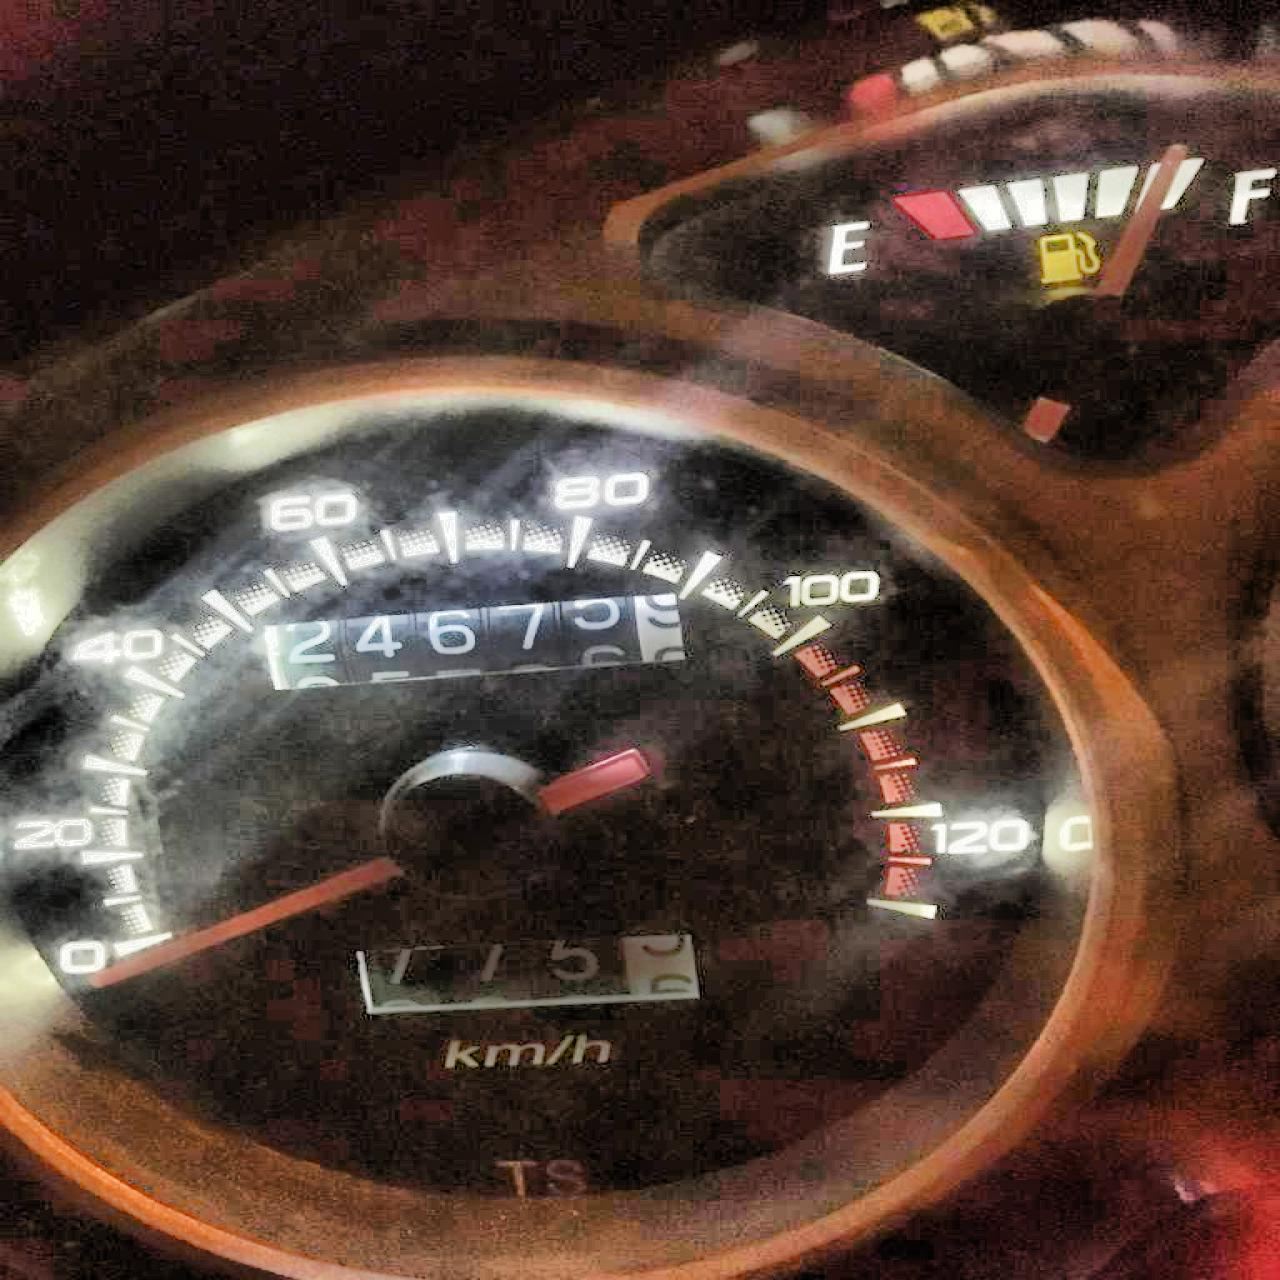2: (281, 620, 333, 663)
4: (352, 613, 403, 658)
5: (568, 584, 620, 629)
6: (425, 607, 475, 655)
7: (496, 599, 546, 649)
9: (644, 585, 687, 627)
odometer: (259, 592, 688, 693)
